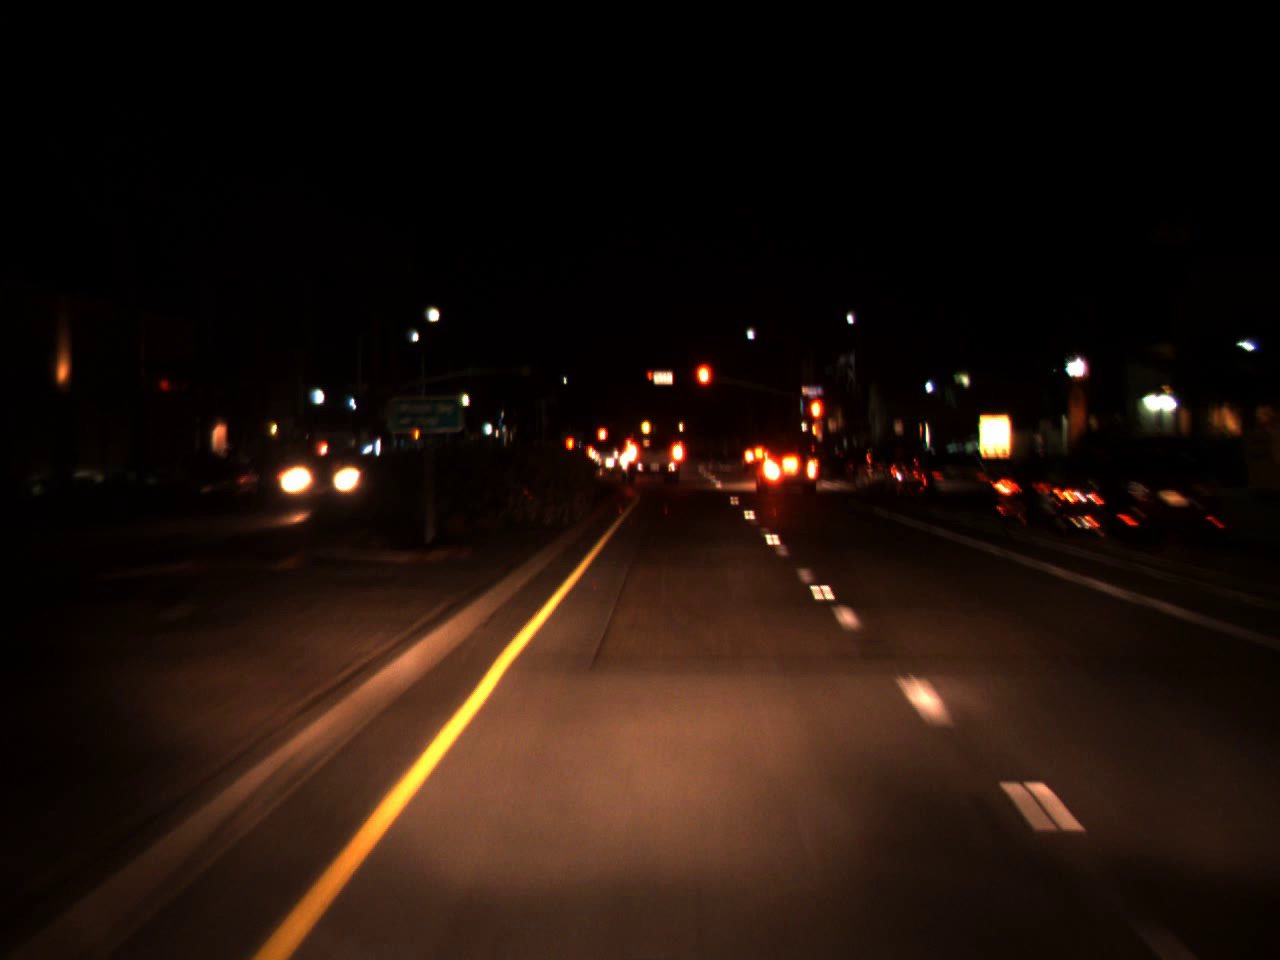stop: (693, 360, 714, 411), (806, 395, 825, 443), (646, 370, 655, 391)
